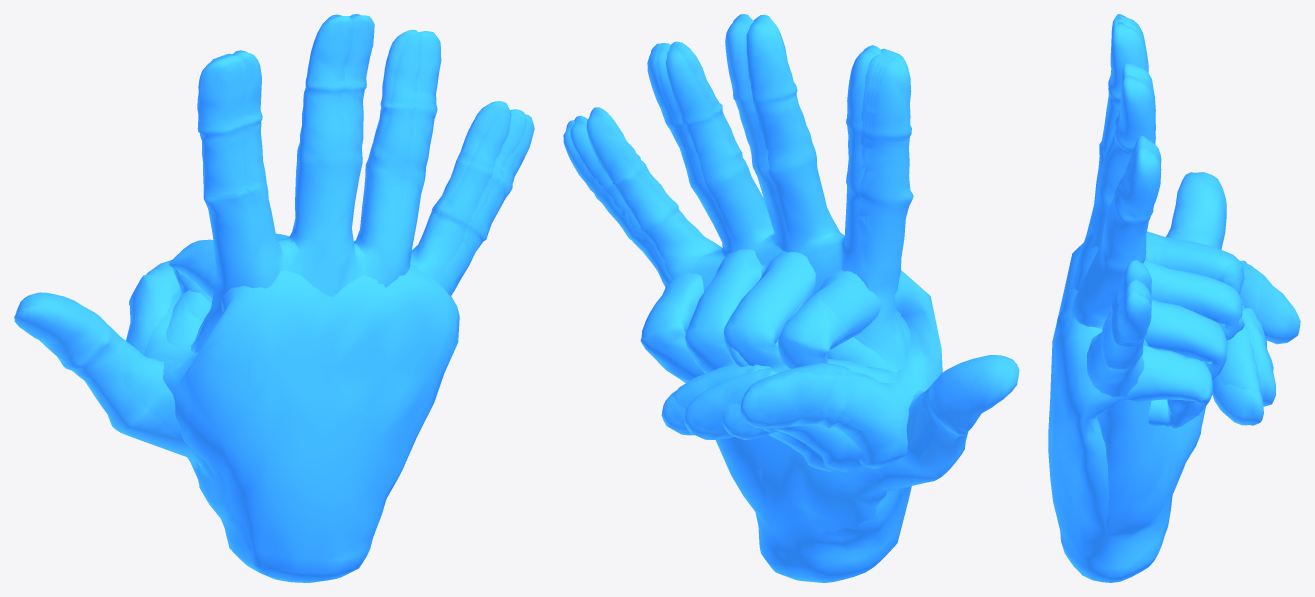
Rendered from ghost-hand-note.glb.
The picture shows the model from 3 angles, left to right: view 1: azimuth 30°, elevation 25°; view 2: azimuth 150°, elevation 25°; view 3: azimuth 270°, elevation 25°; orthographic projection. The views are drawn at different scales.
Visible parts, largest first — view 1: Sign_fist, Sign_open, Sign_four, Sign_two, Sign_one, Sign_three, Sign_rock; view 2: Sign_open, Sign_fist, Sign_four, Sign_one, Sign_two, Sign_three, Sign_rock; view 3: Sign_open, Sign_fist, Sign_four, Sign_two, Sign_one, Sign_three, Sign_rock.
Part boxes in pixels (bbox=[...]): Sign_fist: bbox=[126, 233, 459, 580]; Sign_open: bbox=[14, 15, 534, 582]; Sign_four: bbox=[191, 15, 511, 582]; Sign_two: bbox=[220, 14, 457, 582]; Sign_one: bbox=[194, 50, 459, 582]; Sign_three: bbox=[222, 14, 443, 581]; Sign_rock: bbox=[166, 56, 526, 582]; Sign_open: bbox=[563, 14, 1019, 582]; Sign_fist: bbox=[643, 248, 942, 580]; Sign_four: bbox=[586, 19, 906, 581]; Sign_one: bbox=[640, 45, 906, 581]; Sign_two: bbox=[642, 14, 897, 580]; Sign_three: bbox=[641, 15, 895, 578]; Sign_rock: bbox=[570, 51, 910, 582]; Sign_open: bbox=[1062, 14, 1226, 575]; Sign_fist: bbox=[1048, 231, 1300, 579]; Sign_four: bbox=[1065, 25, 1244, 582]; Sign_two: bbox=[1056, 16, 1260, 575]; Sign_one: bbox=[1055, 22, 1275, 577]; Sign_three: bbox=[1068, 18, 1263, 582]; Sign_rock: bbox=[1061, 15, 1273, 582].
Bounding box in the file's own units: 0.188 × 0.2039 × 0.0888.
